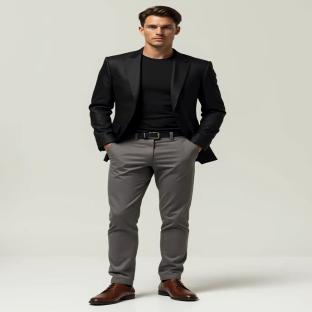Human: (89, 6, 226, 304)
